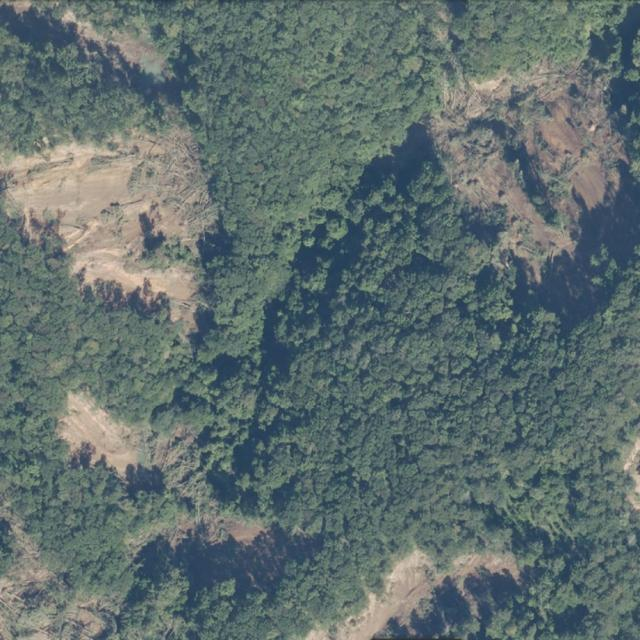landslide: (428, 65, 640, 313), (0, 130, 214, 336), (309, 552, 520, 640), (0, 494, 115, 640), (56, 392, 142, 478), (161, 511, 267, 551)
